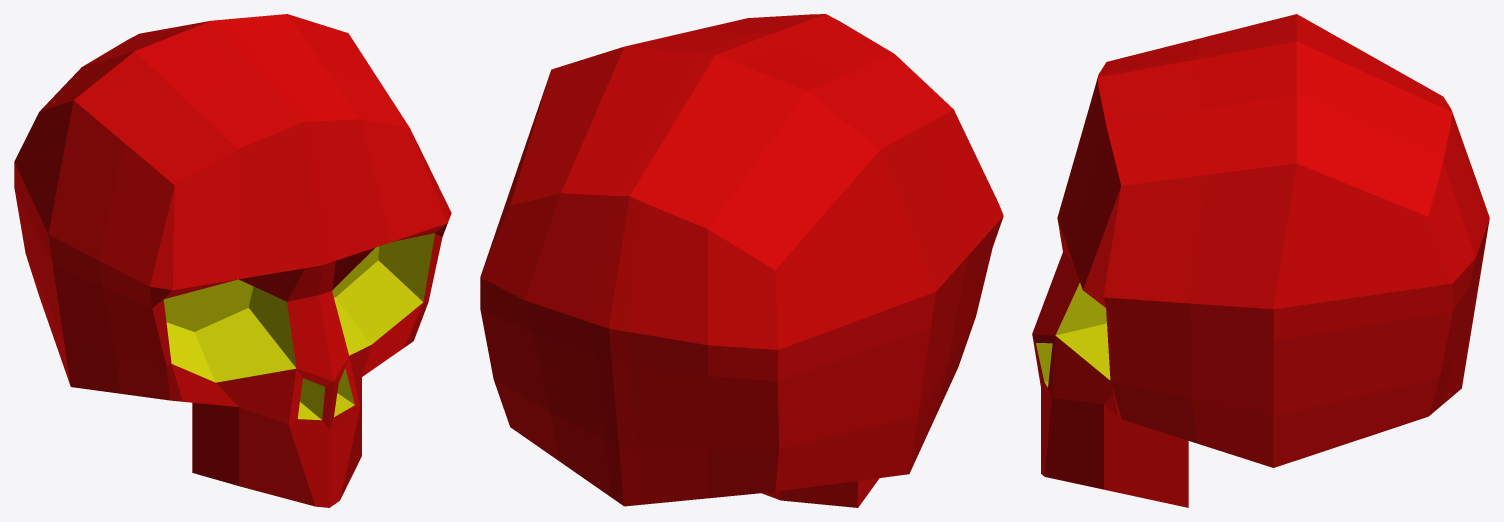
File: Abbie - Skull.fbx
The picture shows the model from 3 angles, left to right: view 1: azimuth 30°, elevation 25°; view 2: azimuth 150°, elevation 25°; view 3: azimuth 270°, elevation 25°; orthographic projection. The views are drawn at different scales.
Parts seen in each view (by area): view 1: pCube4; view 2: pCube4; view 3: pCube4.
Boxes of the visible parts, bbox=[...] form: pCube4: bbox=[14, 14, 451, 507]; pCube4: bbox=[480, 14, 1003, 507]; pCube4: bbox=[1032, 14, 1489, 507].
Size of the model in its own units: 1 by 1.14 by 1.06.
